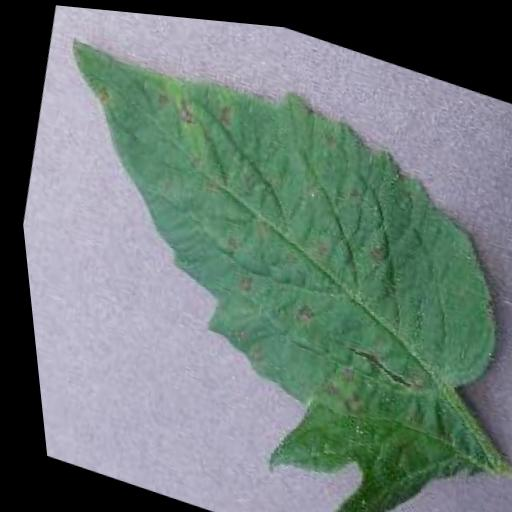Septoria: (1, 15, 512, 512)
